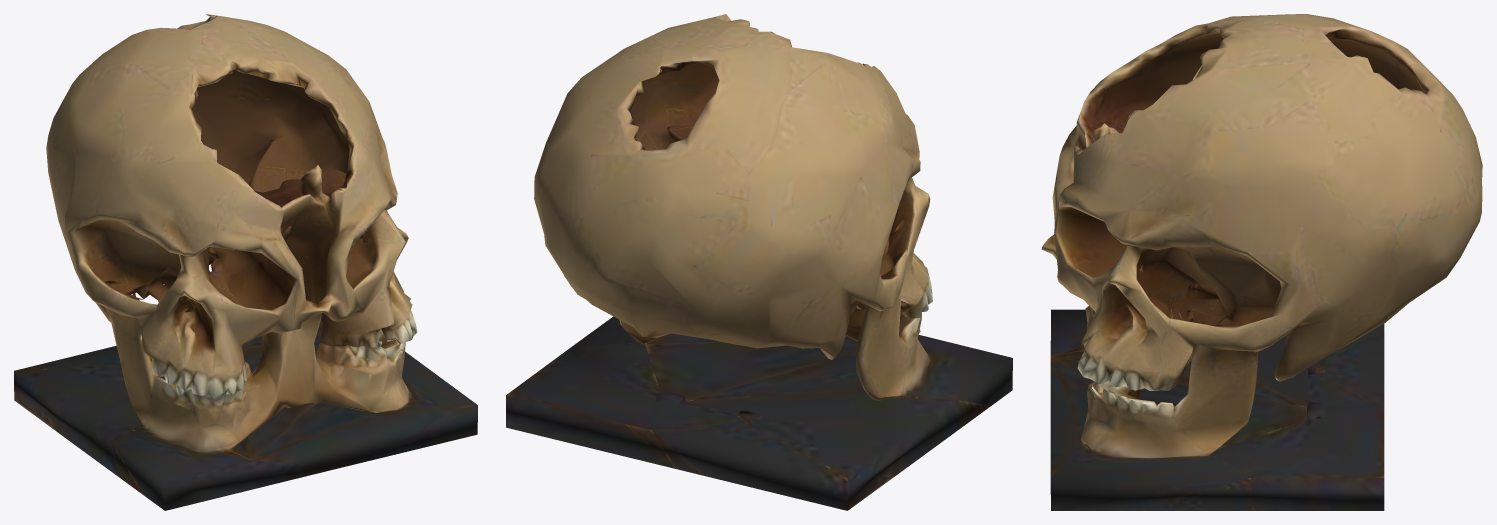
File: skull2.glb
The picture shows the model from 3 angles, left to right: view 1: azimuth 30°, elevation 25°; view 2: azimuth 150°, elevation 25°; view 3: azimuth 270°, elevation 25°; orthographic projection. The views are drawn at different scales.
Visible parts, largest first — view 1: Mesh_0; view 2: Mesh_0; view 3: Mesh_0.
Part boxes in pixels (x1,y1,x2,y2): Mesh_0: (14,14,477,510); Mesh_0: (506,14,1012,510); Mesh_0: (1041,14,1482,510).
Bounding box in the file's own units: 1.7 × 1.86 × 1.88.
1 material, 1 textured.
